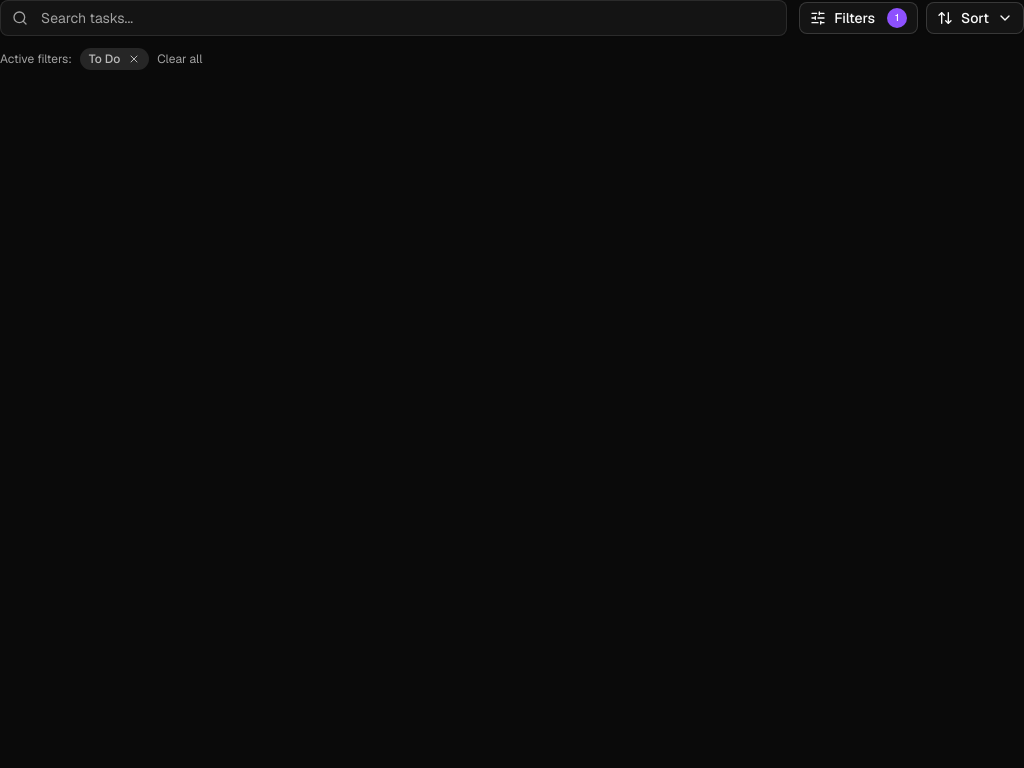
Test case: TaskFilters › Filter Popover › shows clear all filters button when filters are active
Click the button "Filters 1" at [859, 18], box [799,2,918,34]
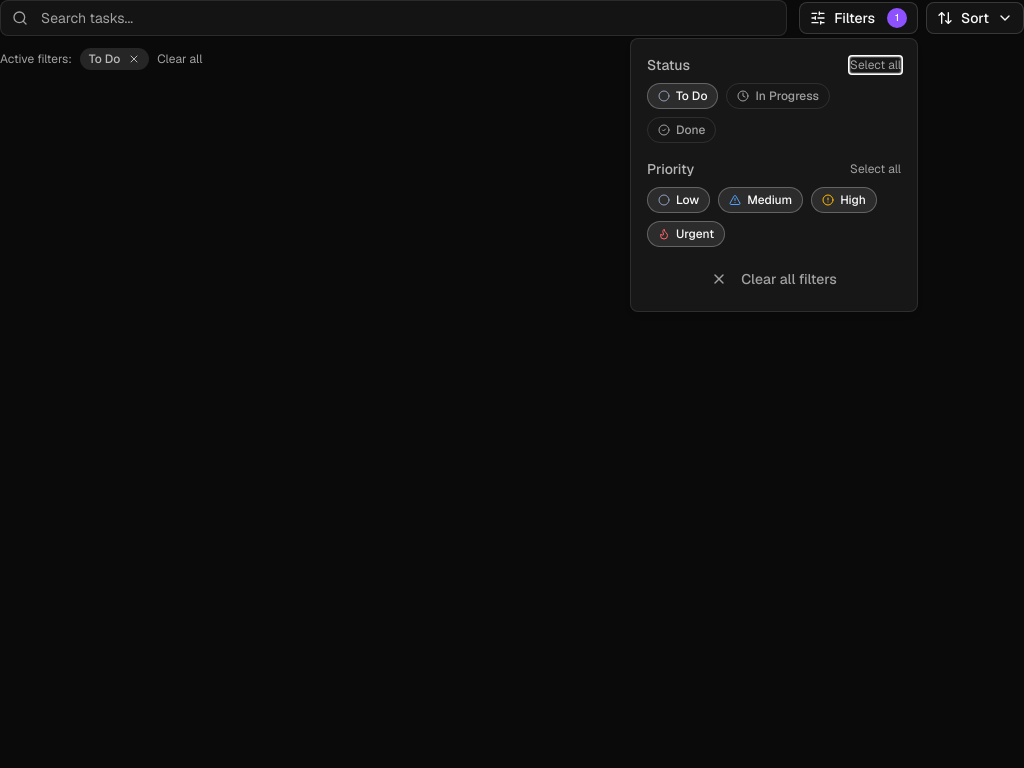
Result: the button "Clear all filters" is shown at [647,263,901,295]
